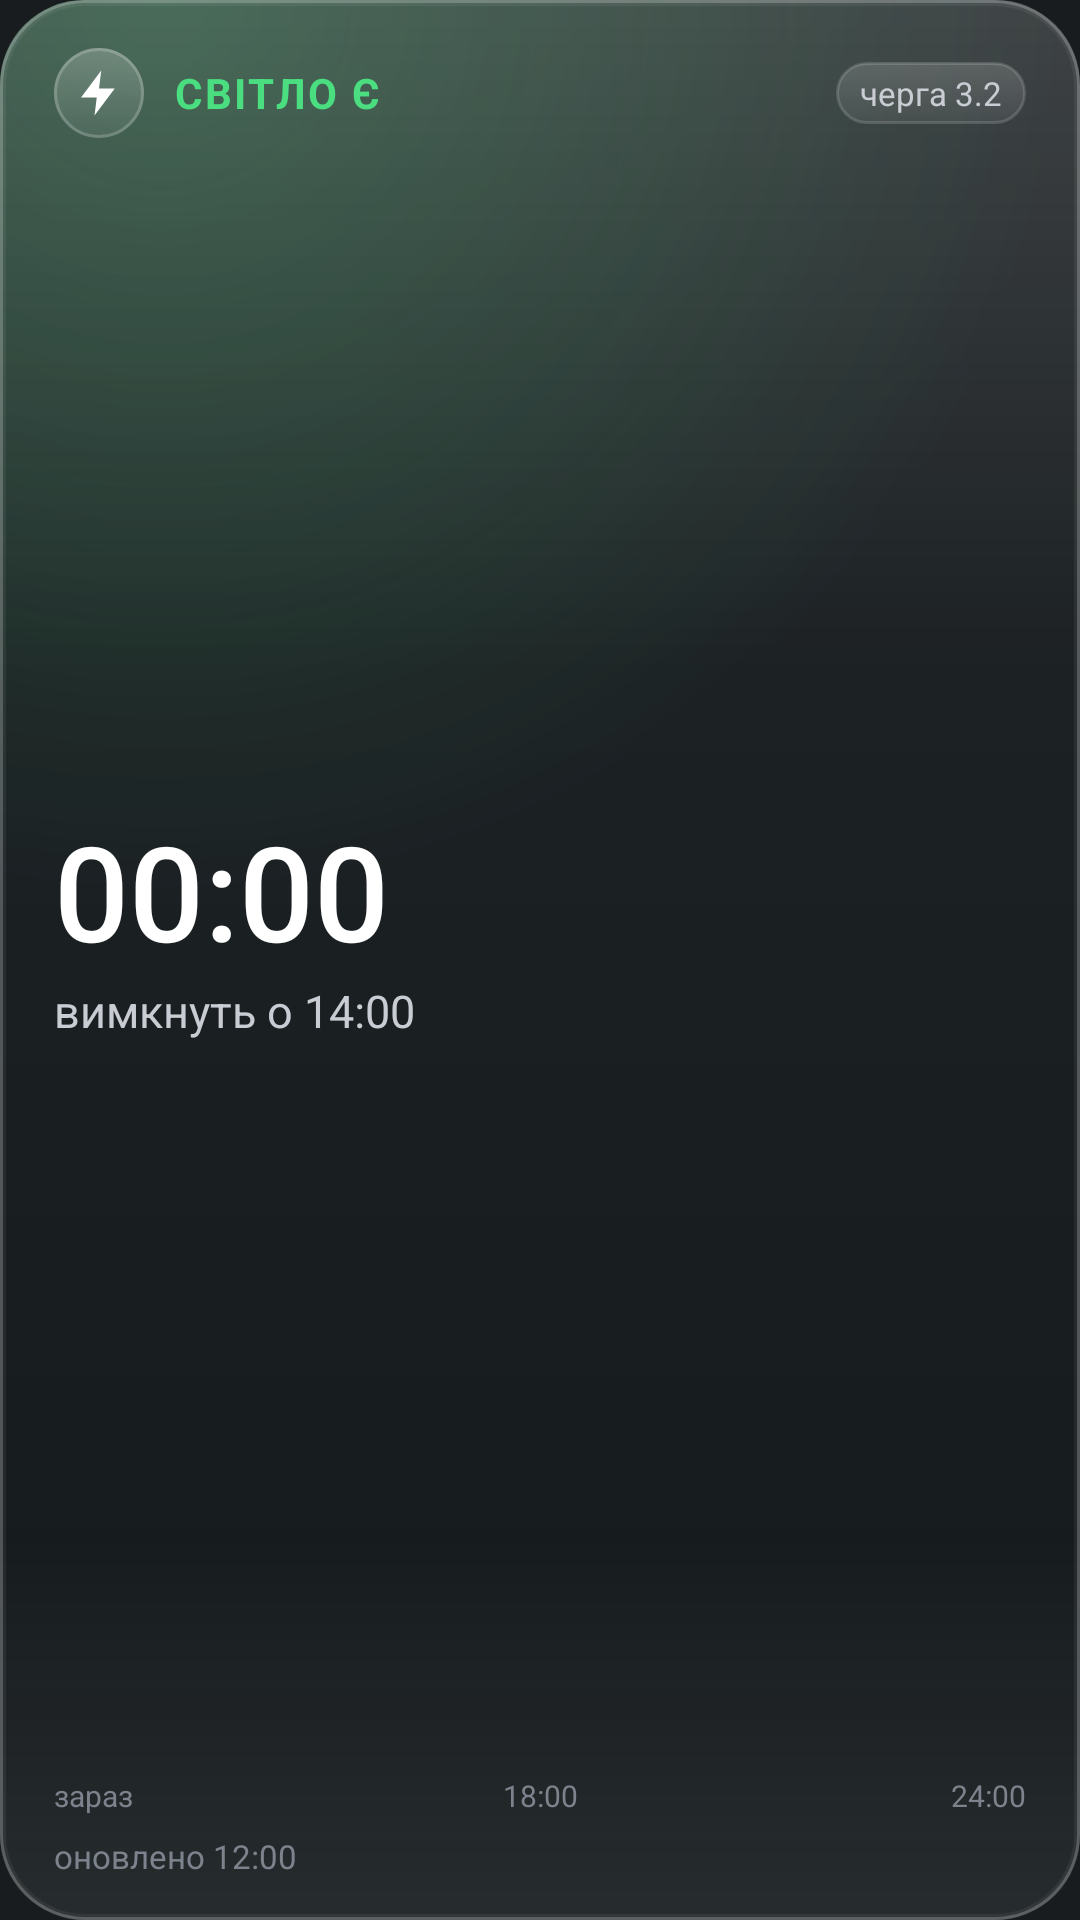

Icon click points for this 1080×1920 phone screenshot, format [x,y]:
widget bolt: [99,93]
